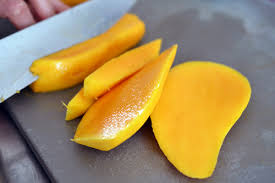mango: (151, 47, 263, 179), (68, 43, 182, 146), (26, 13, 145, 62)
